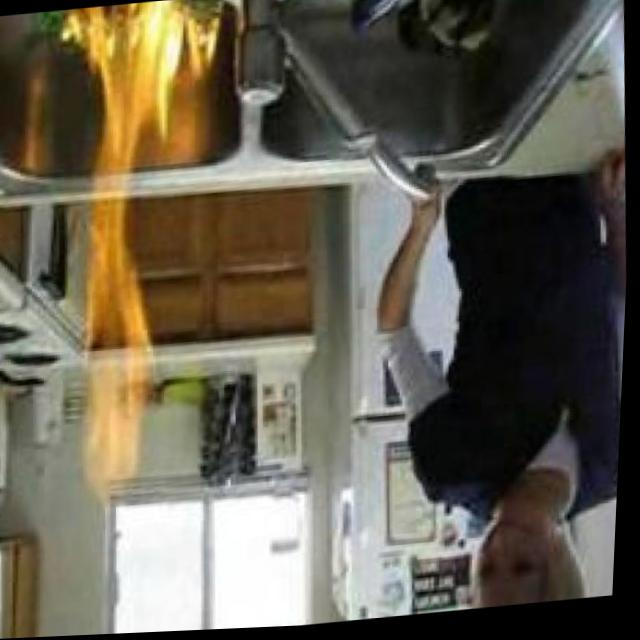Fire: (52, 0, 242, 494)
